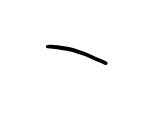minus: (46, 44, 108, 65)
